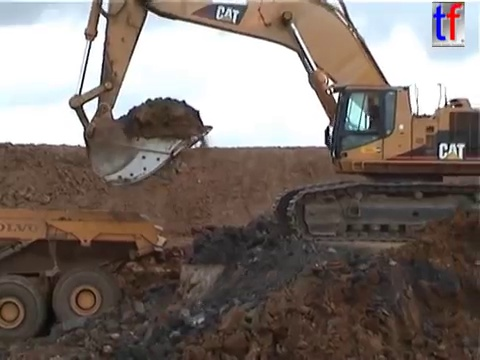excavator: (64, 1, 480, 245)
truck: (1, 204, 169, 344)
